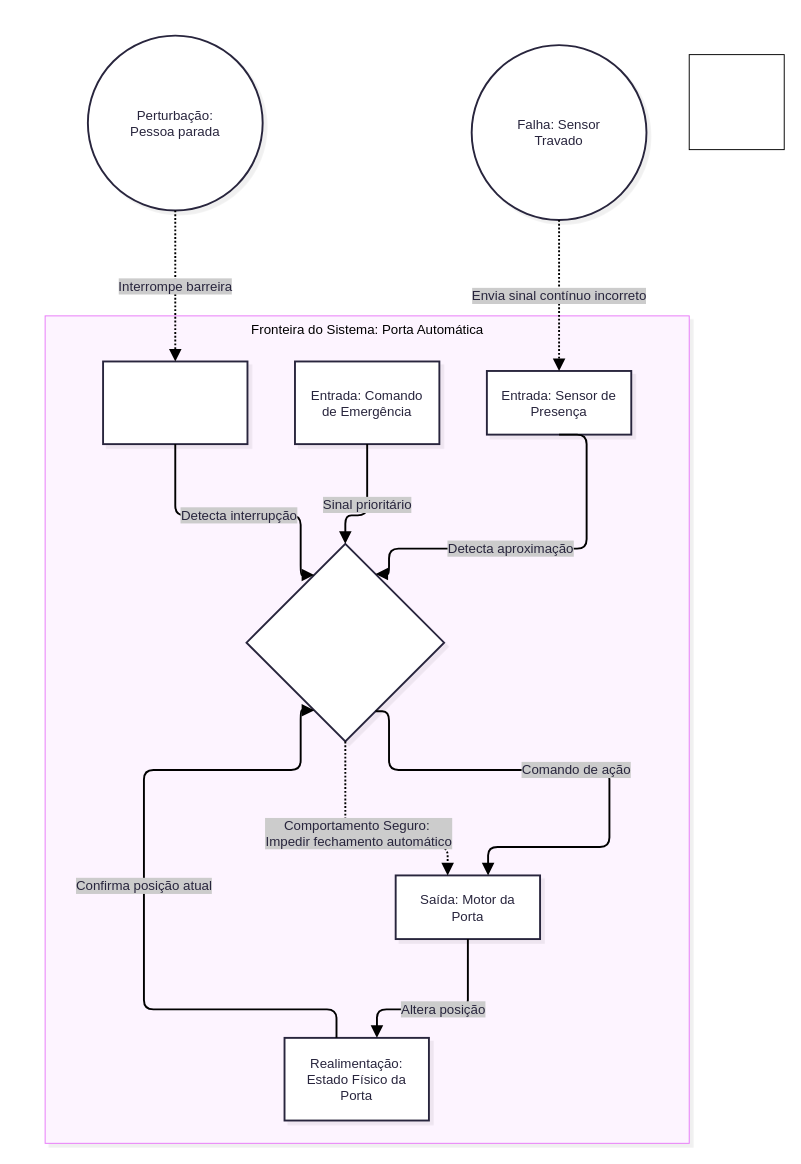
Some shapes in this 801 by 1164 pixel diagram are drawn without their labels. Each missing label, with the centre of its shape:
Nome: Gustavo de Cassio Gomes Perez RA: 823116201: pixel 736 102
Processamento: Lógica da Porta: pixel 346 644
Realimentação: Sensor de Obstáculo: pixel 177 404
